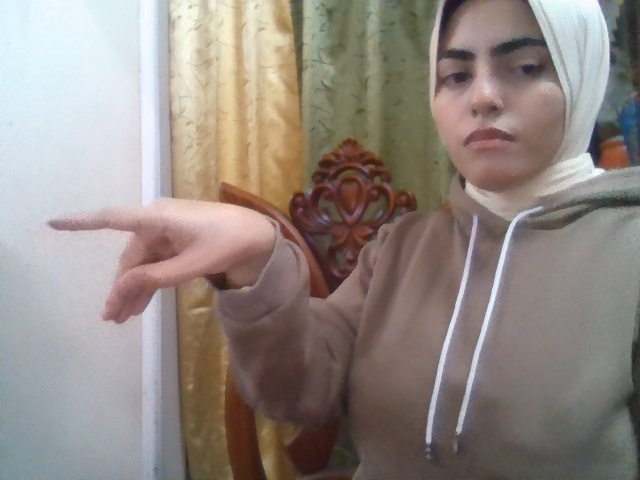P: (47, 197, 275, 325)
